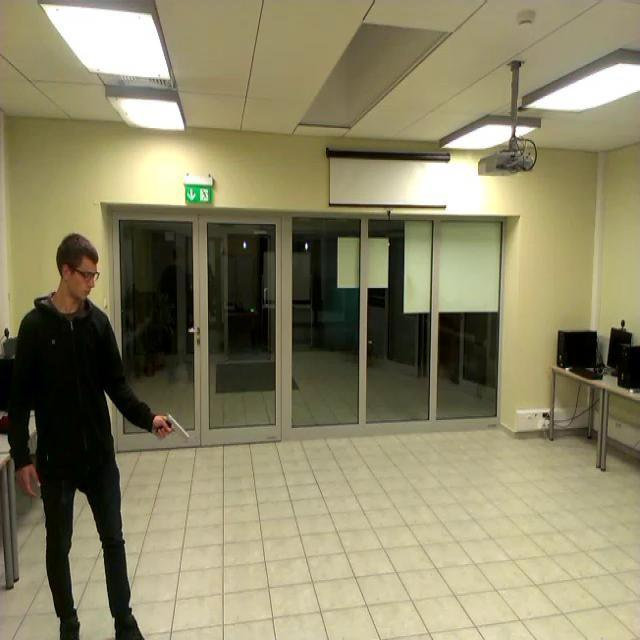weapon: (154, 410, 191, 442)
